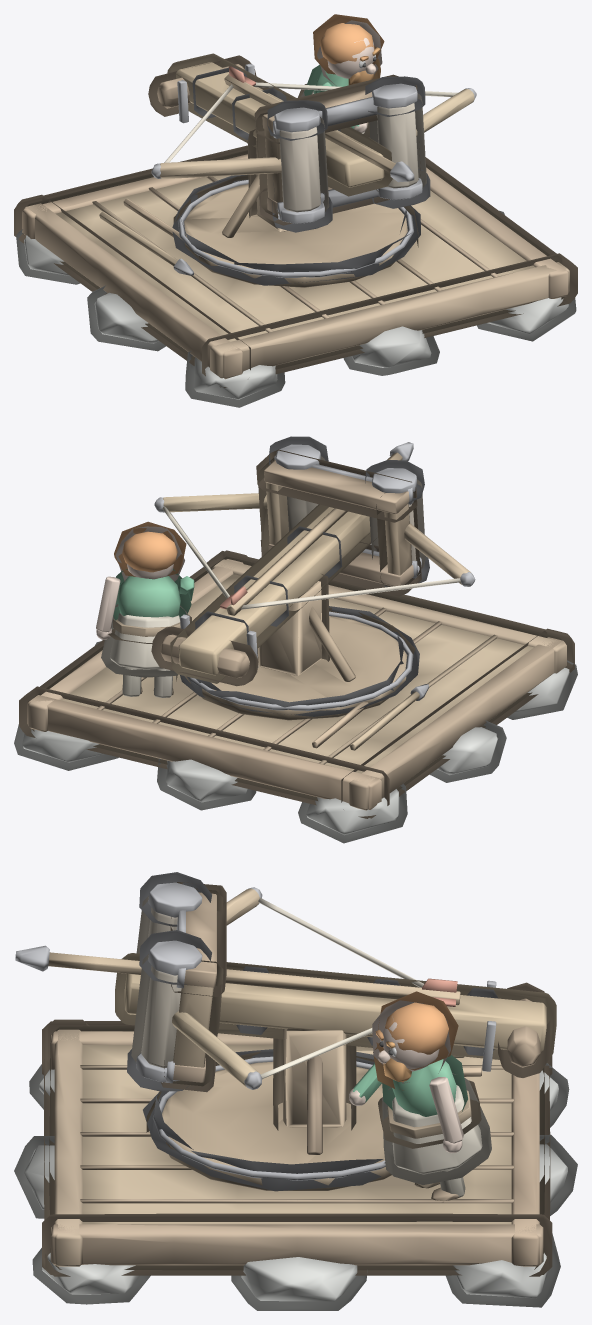
File: ballista.glb
3 views of the same model, one above another, from view 1: azimuth 30°, elevation 25°; view 2: azimuth 150°, elevation 25°; view 3: azimuth 270°, elevation 25° (orthographic). The views are drawn at different scales.
Parts seen in each view (by area): view 1: M_Ballista, M_Bow, M_Ballista_Outline, M_Yaw, M_Bow_Outline, M_Yaw_Outline, M_Arm, M_Arm_Outline, M_Body.002, M_Body.002_Outline; view 2: M_Ballista, M_Bow, M_Ballista_Outline, M_Yaw, M_Body.002, M_Arm, M_Bow_Outline, M_Arm_Outline, M_Yaw_Outline, M_Body.002_Outline; view 3: M_Ballista, M_Bow, M_Yaw, M_Ballista_Outline, M_Body.002, M_Bow_Outline, M_Yaw_Outline, M_Body.002_Outline, M_Arm, M_Arm_Outline, M_CrewArm.
Part boxes in pixels (x1=…): M_Ballista: x1=22, y1=154, x2=569, y2=399; M_Bow: x1=151, y1=62, x2=476, y2=223; M_Ballista_Outline: x1=14, y1=145, x2=577, y2=407; M_Yaw: x1=178, y1=138, x2=413, y2=287; M_Bow_Outline: x1=148, y1=53, x2=430, y2=232; M_Yaw_Outline: x1=172, y1=129, x2=420, y2=285; M_Arm: x1=177, y1=63, x2=378, y2=219; M_Arm_Outline: x1=192, y1=66, x2=420, y2=225; M_Body.002: x1=311, y1=23, x2=380, y2=133; M_Body.002_Outline: x1=298, y1=14, x2=384, y2=137; M_Ballista: x1=22, y1=559, x2=569, y2=835; M_Bow: x1=154, y1=442, x2=475, y2=678; M_Ballista_Outline: x1=14, y1=550, x2=577, y2=843; M_Yaw: x1=184, y1=581, x2=413, y2=720; M_Body.002: x1=96, y1=531, x2=180, y2=697; M_Arm: x1=180, y1=455, x2=417, y2=667; M_Bow_Outline: x1=151, y1=436, x2=429, y2=686; M_Arm_Outline: x1=195, y1=449, x2=421, y2=633; M_Yaw_Outline: x1=176, y1=574, x2=419, y2=716; M_Body.002_Outline: x1=101, y1=521, x2=191, y2=677; M_Ballista: x1=24, y1=1029, x2=567, y2=1301; M_Bow: x1=15, y1=882, x2=546, y2=1089; M_Yaw: x1=153, y1=1028, x2=391, y2=1190; M_Ballista_Outline: x1=14, y1=1019, x2=577, y2=1310; M_Body.002: x1=375, y1=1002, x2=482, y2=1202; M_Bow_Outline: x1=115, y1=872, x2=556, y2=1091; M_Yaw_Outline: x1=143, y1=1038, x2=385, y2=1191; M_Body.002_Outline: x1=372, y1=991, x2=491, y2=1184; M_Arm: x1=165, y1=892, x2=496, y2=1083; M_Arm_Outline: x1=161, y1=882, x2=497, y2=1092; M_CrewArm: x1=349, y1=1063, x2=381, y2=1105.
Bounding box in the file's own units: 3.28 × 1.93 × 3.21.
